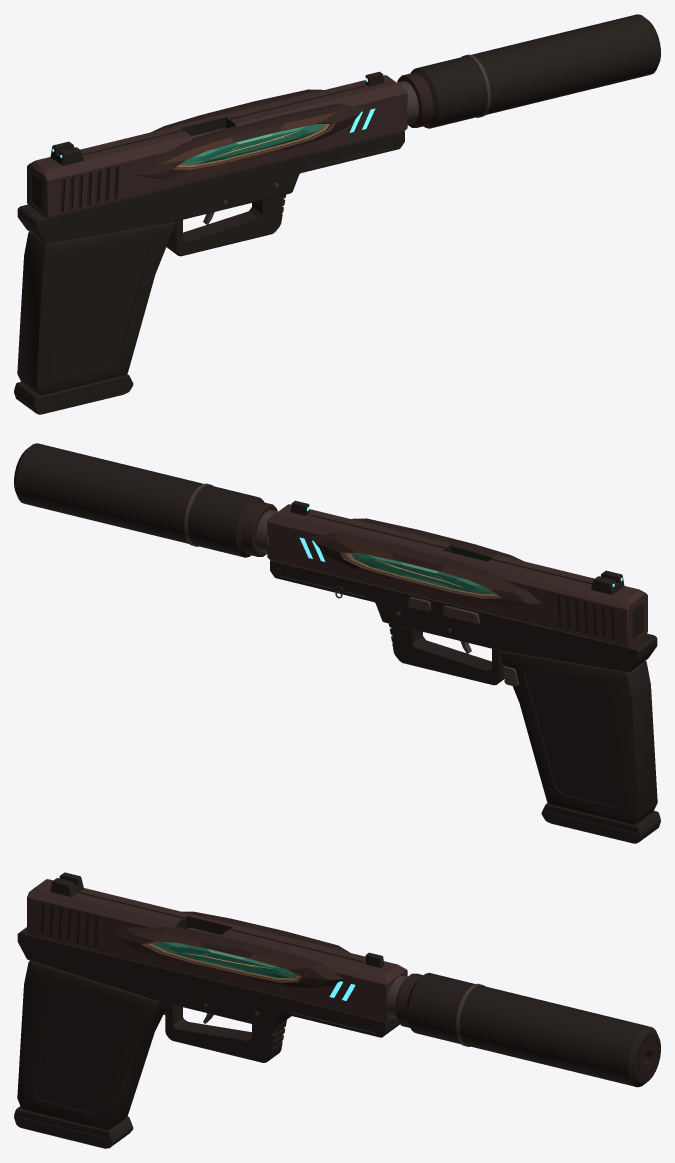
The model's file is Ghost_Rootglass_v01.fbx.
The picture shows the model from 3 angles, top to bottom: view 1: azimuth 30°, elevation 25°; view 2: azimuth 150°, elevation 25°; view 3: azimuth 330°, elevation 25°; orthographic projection.
Parts seen in each view (by area): view 1: Ghost_Grip, Ghost_Slide, Ghost_Suppressor, Ghost_Frame, Rootglass_Right_CarvedShell, Ghost_Mag, Rootglass_Right_FacetedMineral, Rootglass_Left_CarvedShell; view 2: Ghost_Grip, Ghost_Suppressor, Ghost_Slide, Ghost_Frame, Rootglass_Left_CarvedShell, Ghost_Mag, Rootglass_Left_FacetedMineral, Rootglass_Right_CarvedShell; view 3: Ghost_Grip, Ghost_Suppressor, Ghost_Slide, Ghost_Frame, Rootglass_Right_CarvedShell, Ghost_Mag, Rootglass_Right_FacetedMineral, Rootglass_Left_CarvedShell, Rootglass_Right_BronzeSeat.
Boxes of the visible parts, x1,y1,x2,y2 form: Ghost_Grip: (17,221,174,395); Ghost_Slide: (27,71,407,218); Ghost_Suppressor: (191,14,660,138); Ghost_Frame: (17,131,404,256); Rootglass_Right_CarvedShell: (132,103,363,179); Ghost_Mag: (14,374,133,414); Rootglass_Right_FacetedMineral: (180,124,323,164); Rootglass_Left_CarvedShell: (151,89,323,132); Ghost_Grip: (500,650,657,824); Ghost_Suppressor: (14,443,277,557); Ghost_Slide: (267,500,647,647); Ghost_Frame: (270,560,657,685); Rootglass_Left_CarvedShell: (311,532,542,608); Ghost_Mag: (541,803,660,843); Rootglass_Left_FacetedMineral: (351,553,494,593); Rootglass_Right_CarvedShell: (351,518,523,561); Ghost_Grip: (17,960,165,1129); Ghost_Suppressor: (187,927,660,1087); Ghost_Slide: (27,872,407,1021); Ghost_Frame: (17,927,399,1062); Rootglass_Right_CarvedShell: (111,927,343,987); Ghost_Mag: (14,1106,133,1148); Rootglass_Right_FacetedMineral: (152,942,295,978); Rootglass_Left_CarvedShell: (182,911,350,952); Rootglass_Right_BronzeSeat: (146,941,300,980).
Size of the model in its own units: 232 by 89.19 by 20.42.
